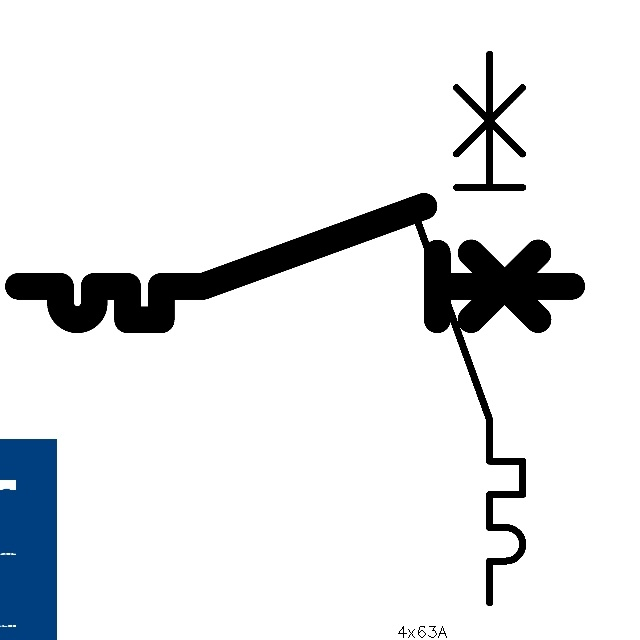interruptor_termomagnetico: (4, 192, 585, 334), (396, 40, 537, 617)
